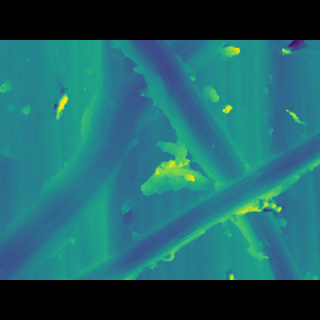Loch: (0, 68, 226, 249), (107, 70, 303, 250), (69, 137, 319, 252)
